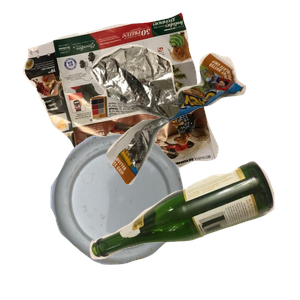glass: (87, 158, 300, 300)
paper: (20, 10, 231, 190)
plastic: (48, 132, 224, 300)
trash: (88, 42, 300, 219)
